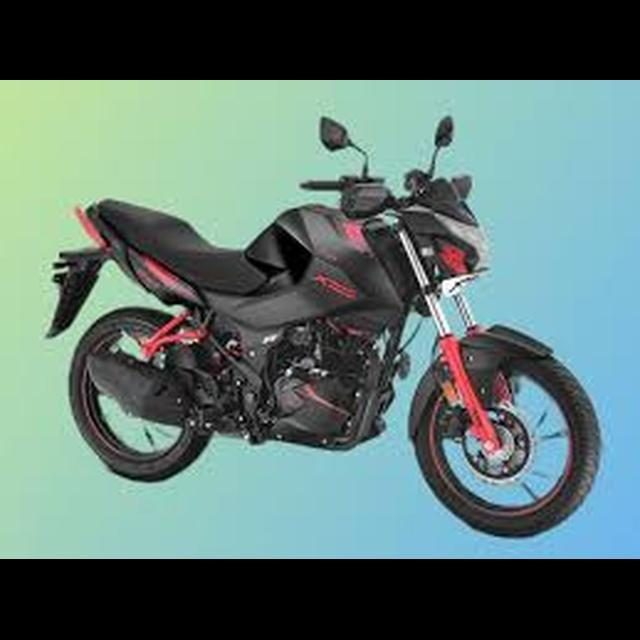motorcycle: (41, 107, 606, 544)
